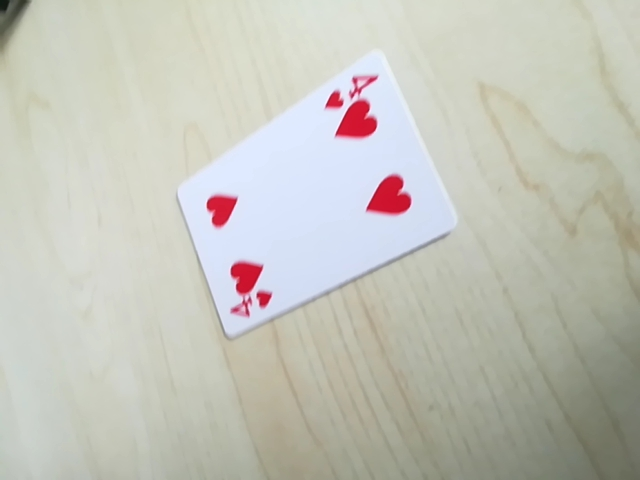hx 4: (323, 65, 381, 108), (220, 285, 276, 327)
